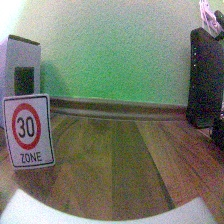dreisiger_zone: (2, 95, 55, 168)
